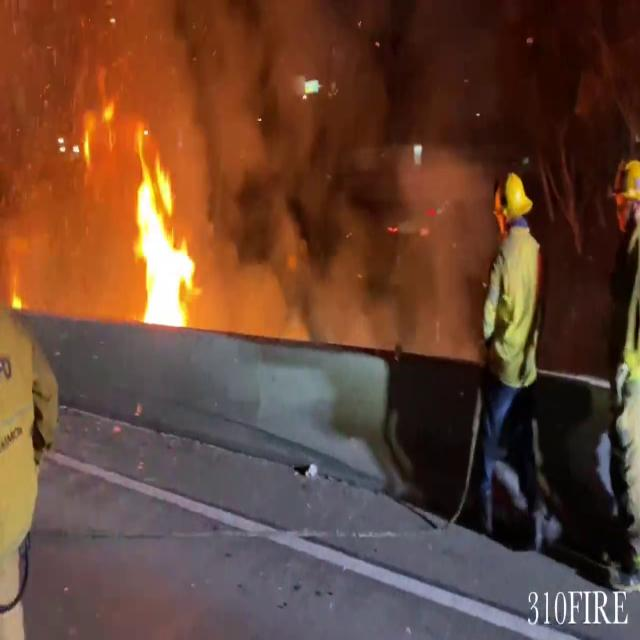Fire: (122, 121, 206, 330)
Smoke: (0, 0, 510, 344)
